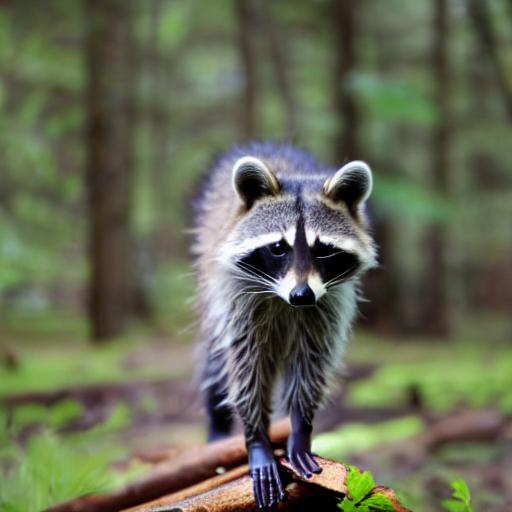raccoon: (183, 129, 384, 452)
